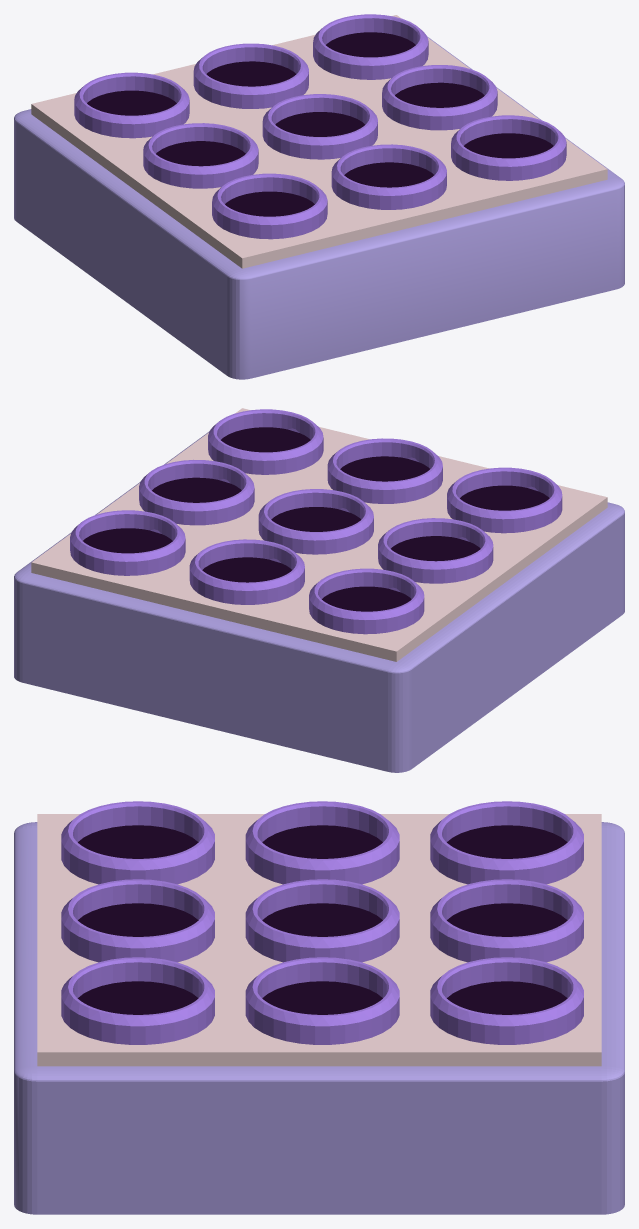
The model's file is gameboard_jh.fbx.
The picture shows the model from 3 angles, top to bottom: view 1: azimuth 30°, elevation 25°; view 2: azimuth 150°, elevation 25°; view 3: azimuth 270°, elevation 25°; orthographic projection. The views are drawn at different scales.
Visible parts, largest first — view 1: Gameboard; view 2: Gameboard; view 3: Gameboard.
Boxes of the visible parts, box(x1,y1,x2,y2) form: Gameboard: box(14, 14, 624, 379); Gameboard: box(14, 408, 624, 772); Gameboard: box(14, 801, 624, 1214).
Bounding box in the file's own units: 1600 × 514 × 1600.
